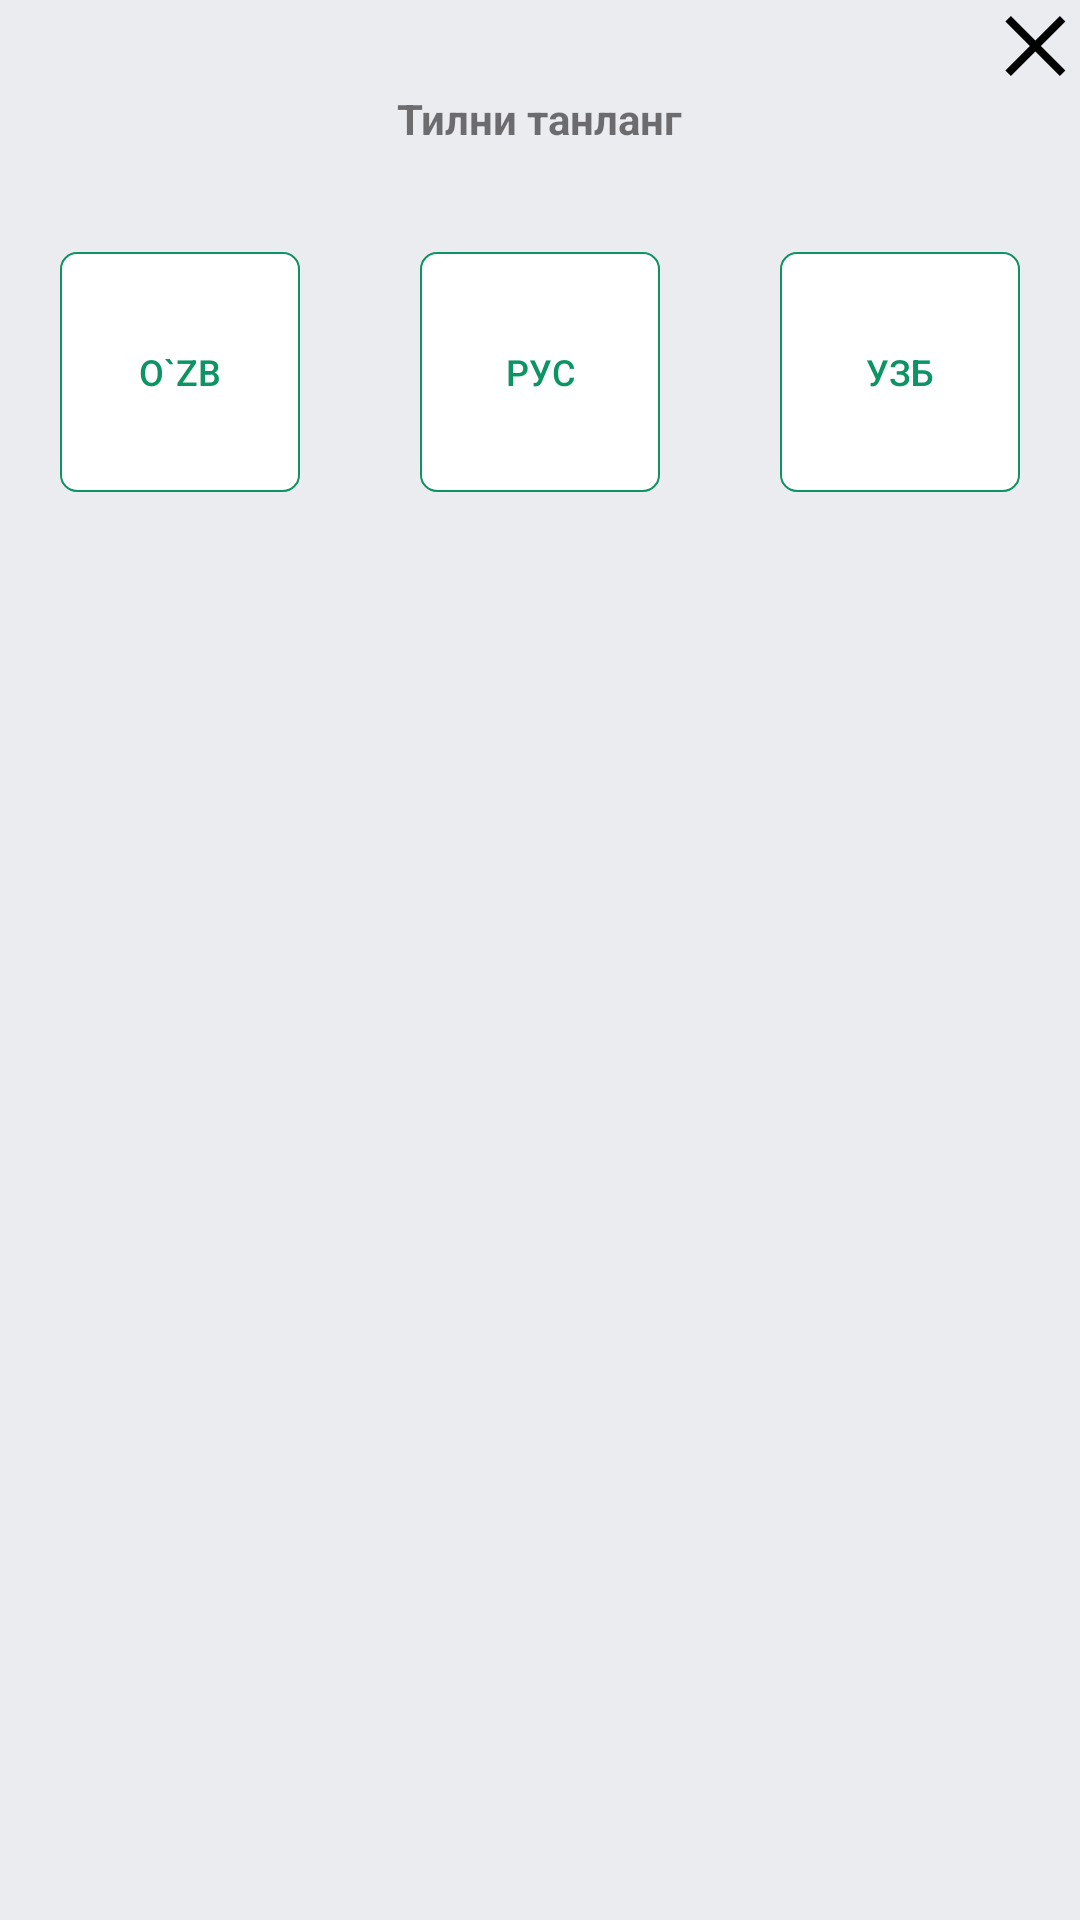

Locate icon controls on the screen. Image size 1080 x 1920, boxes as (x1, y1, x2, y2).
krest: (1005, 16, 1066, 76)
